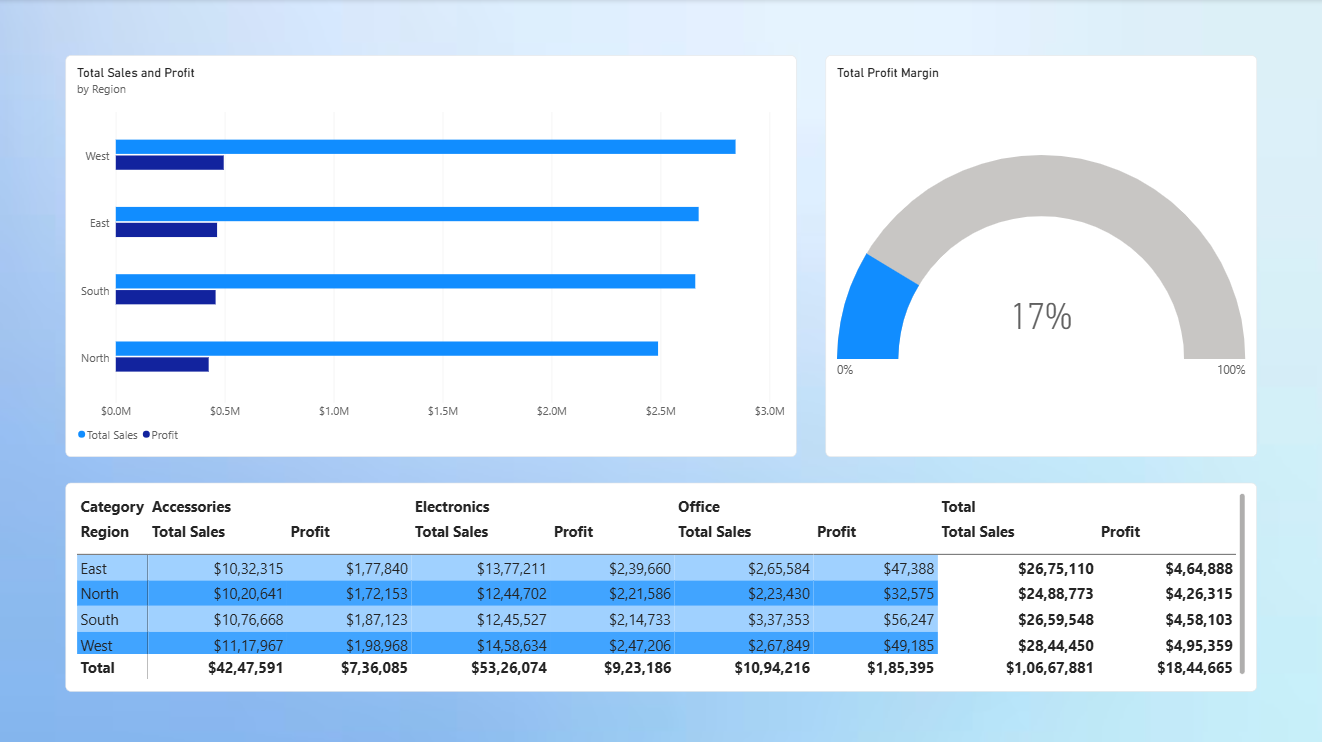

The dashboard page shown, as its layout file describes it:
{"tool":"powerbi","page":{"name":"Regional Sales & Profitablity","canvas":[1920,1080],"ordinal":2},"visuals":[{"type":"clusteredBarChart","fields":{"Category":["1  project ecommerce raw data.Region"],"Y":["1  project ecommerce raw data.Total Sales","1  project ecommerce raw data.Profit"]},"box":[97.9,81.2,1058.3,581.2],"z":0},{"type":"gauge","fields":{"Y":["1  project ecommerce raw data.Total Profit Margin"]},"box":[1197.9,81.2,625,581.2],"z":1000},{"type":"pivotTable","fields":{"Columns":["1  project ecommerce raw data.Category"],"Rows":["1  project ecommerce raw data.Region"],"Values":["1  project ecommerce raw data.Total Sales","1  project ecommerce raw data.Profit"]},"box":[97.9,700,1725,302.1],"z":2000}]}

Visuals, with their boxes in screenshot pixels (x1, y1, x2, y2), scaled from the page's 1920x1080 canvas onto the 1322x742 screenshot:
clusteredBarChart - 1  project ecommerce raw data.Region x 1  project ecommerce raw data.Total Sales: Rect(67, 56, 796, 455)
gauge - 1  project ecommerce raw data.Total Profit Margin: Rect(825, 56, 1255, 455)
pivotTable - 1  project ecommerce raw data.Category x 1  project ecommerce raw data.Region: Rect(67, 481, 1255, 688)
